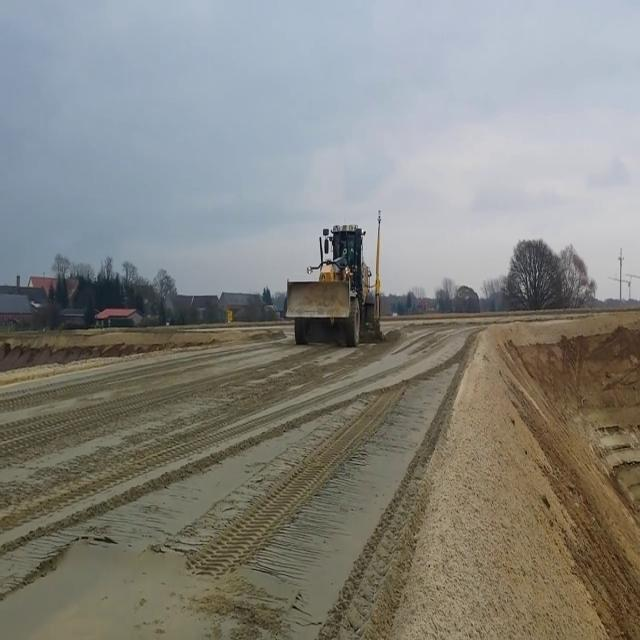buldozerpayloadergrader: (289, 225, 382, 348)
